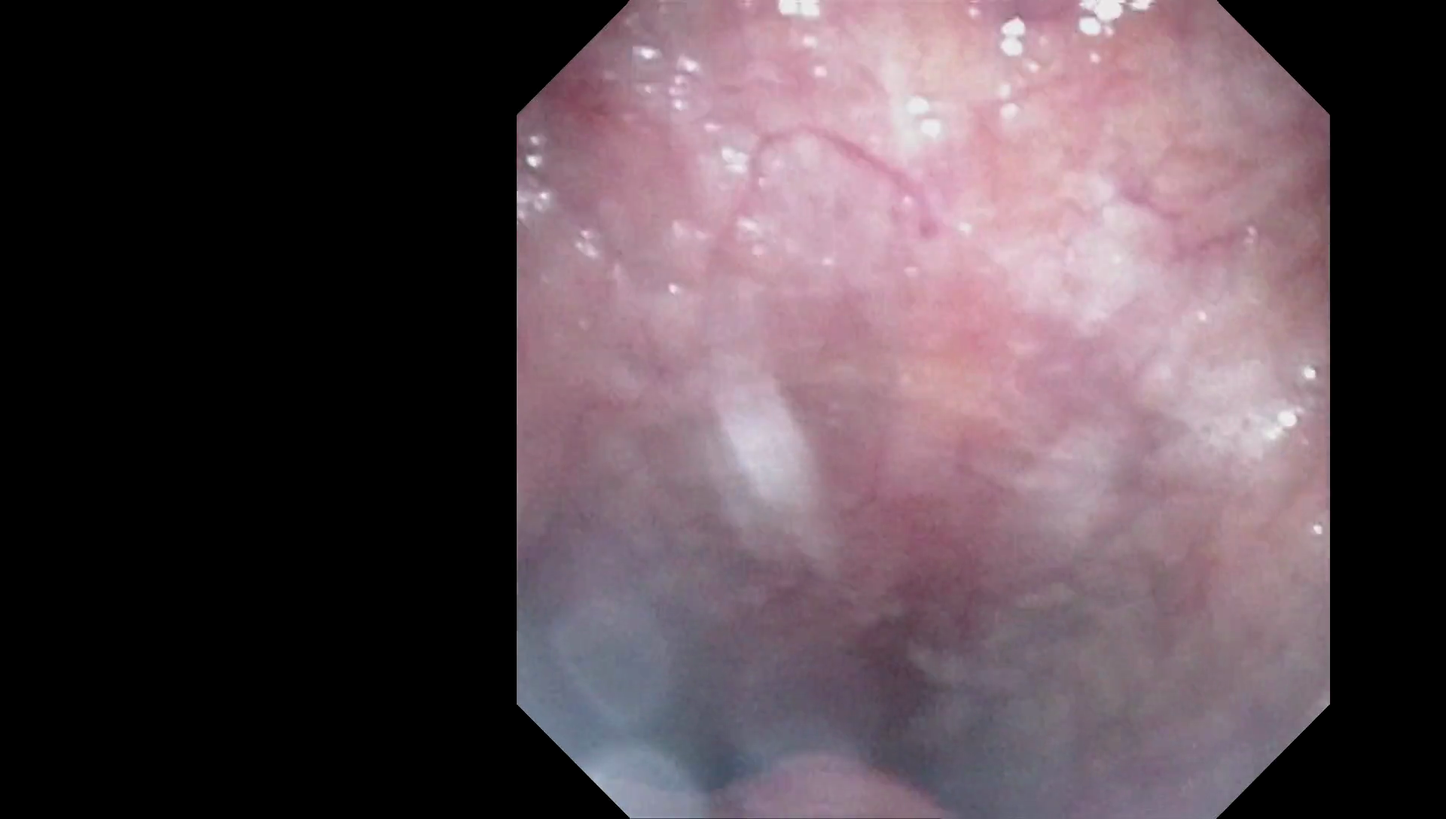next: (548, 651, 763, 808), (843, 666, 1052, 811)
